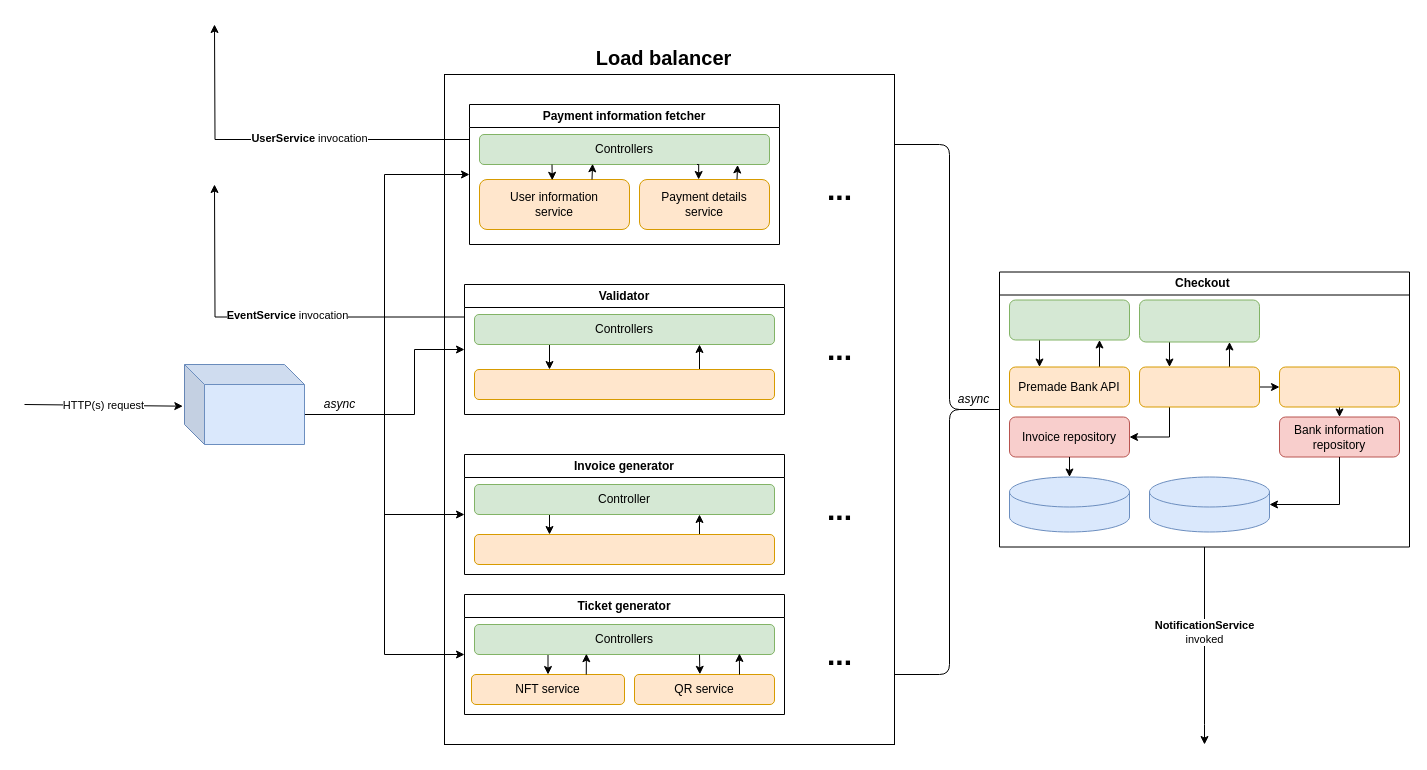
Image size: 1427x770. Some labels were removed from this diagram. Here are the shapes that lost their labels. From the top down, the centre of each, then its label:
At point (1069, 319): "Bank controller".
At point (1199, 320): "Persist controller".
At point (244, 404): "Event router".
At point (624, 384): "Service".
At point (1199, 386): "Persist service".
At point (1339, 386): "Encrypting/Decrypting service".
At point (1069, 504): "Invoice database".
At point (1209, 504): "Bank inf. database".
At point (624, 549): "Premade invoice API".
